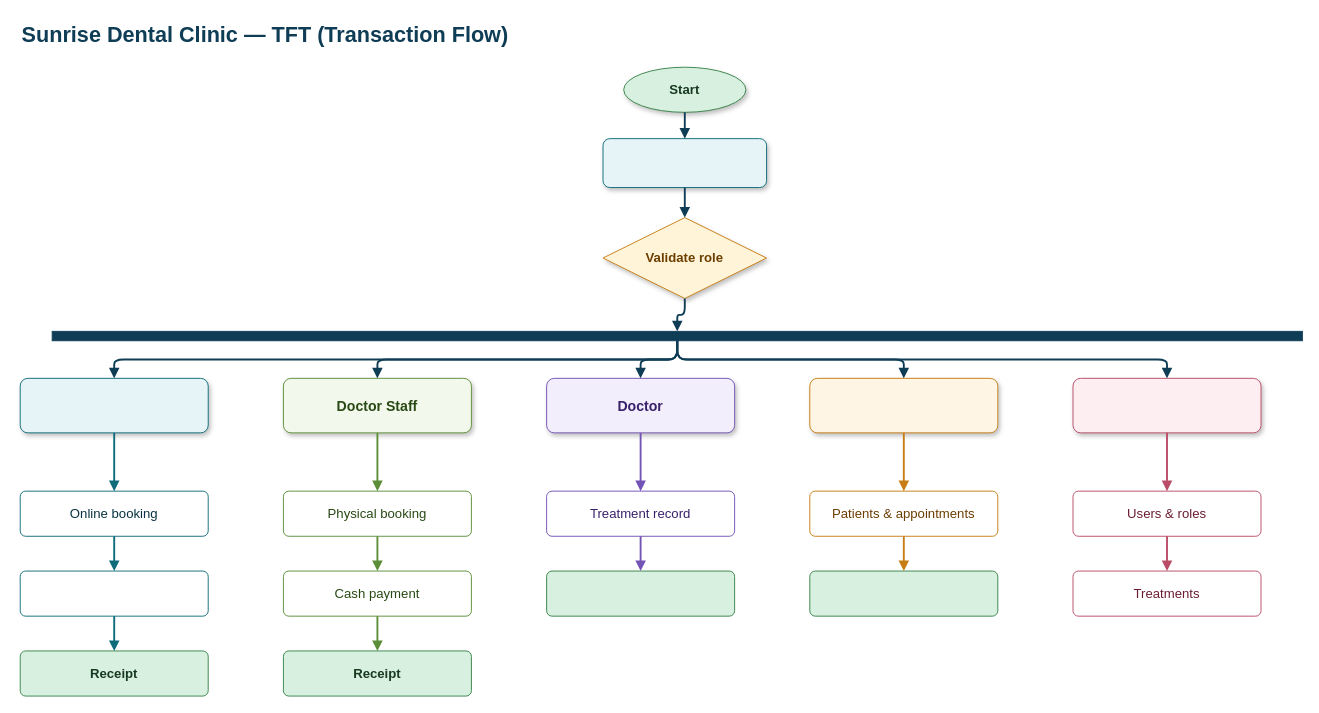
Some shapes in this 1319 by 713 pixel diagram are drawn without their labels. The shapes that lost their labels are listed below. From the top down, each one's centre as x and y in pixels, then its label:
At (685,164): "Sign in".
At (115,406): "Patient".
At (904,406): "Super Admin".
At (1167,406): "Main Admin".
At (113,593): "Card payment".
At (640,593): "Complete visit".
At (903,593): "Billing".
